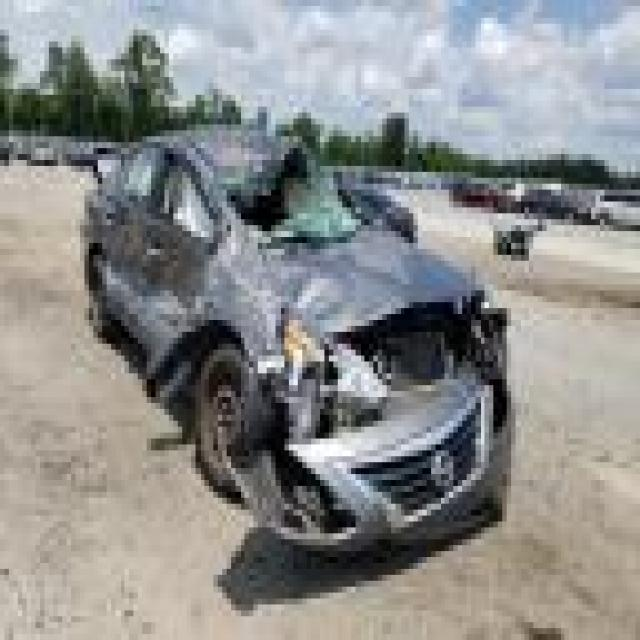severe: (113, 95, 526, 508)
